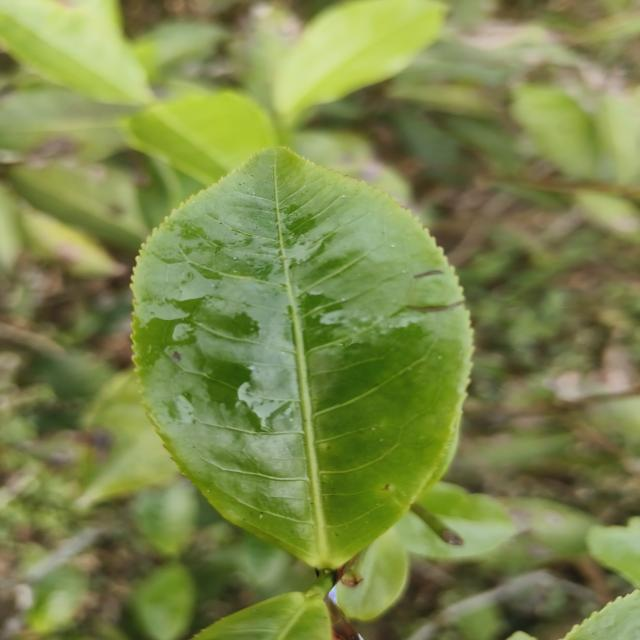Leaf: (132, 148, 471, 569), (273, 0, 446, 124), (0, 0, 154, 105), (124, 90, 277, 185), (77, 369, 178, 508), (0, 86, 130, 162), (396, 482, 516, 559), (512, 84, 597, 180), (485, 498, 596, 571), (192, 585, 331, 640), (336, 526, 409, 621), (132, 478, 197, 557), (132, 562, 195, 640)
